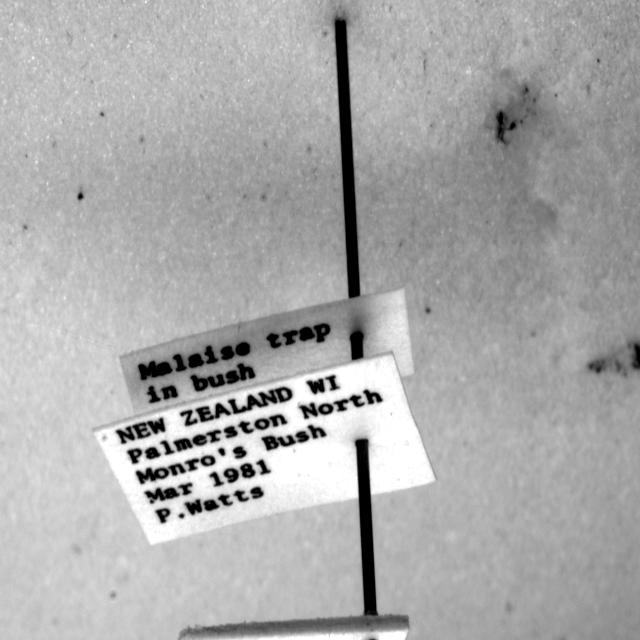typed_label: (95, 354, 435, 544), (120, 289, 415, 414)
